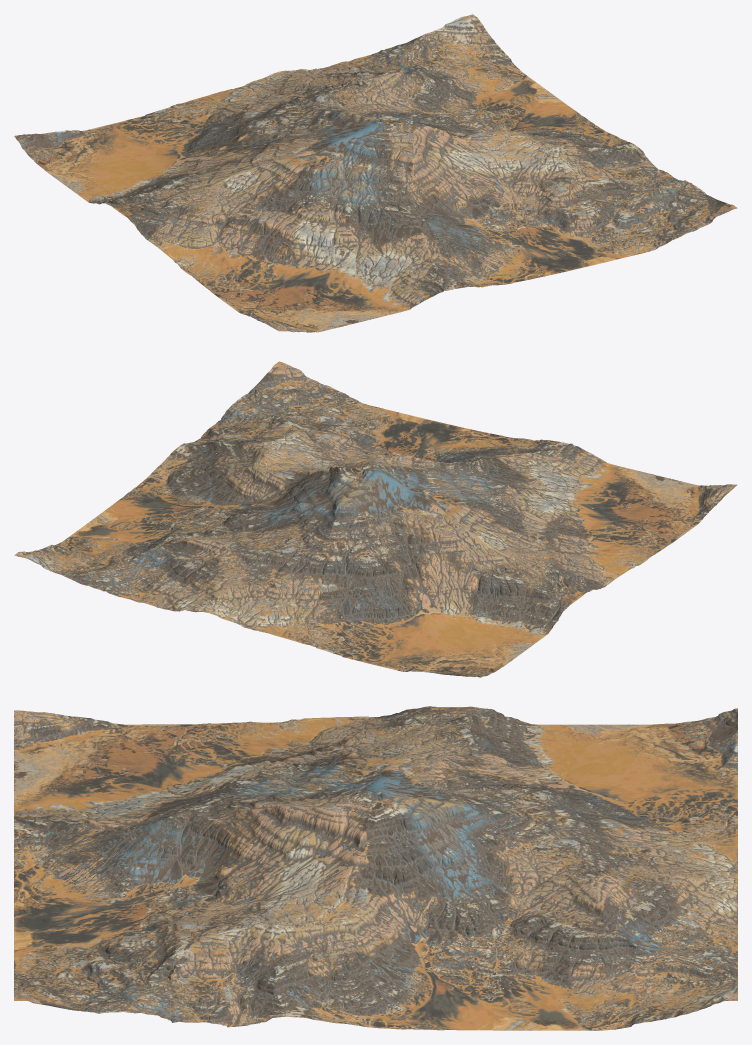
The model's file is a_mountain.glb.
3 views of the same model, one above another, from view 1: azimuth 30°, elevation 25°; view 2: azimuth 150°, elevation 25°; view 3: azimuth 270°, elevation 25° (orthographic). The views are drawn at different scales.
Parts seen in each view (by area): view 1: Mesher; view 2: Mesher; view 3: Mesher.
Boxes of the visible parts, left/top/right/bottom form: Mesher: left=14, top=14, right=737, bottom=332; Mesher: left=14, top=361, right=737, bottom=677; Mesher: left=14, top=706, right=737, bottom=1030.
Size of the model in its own units: 20.35 by 2.81 by 20.35.
Materials: 1 (1 with a texture image).
